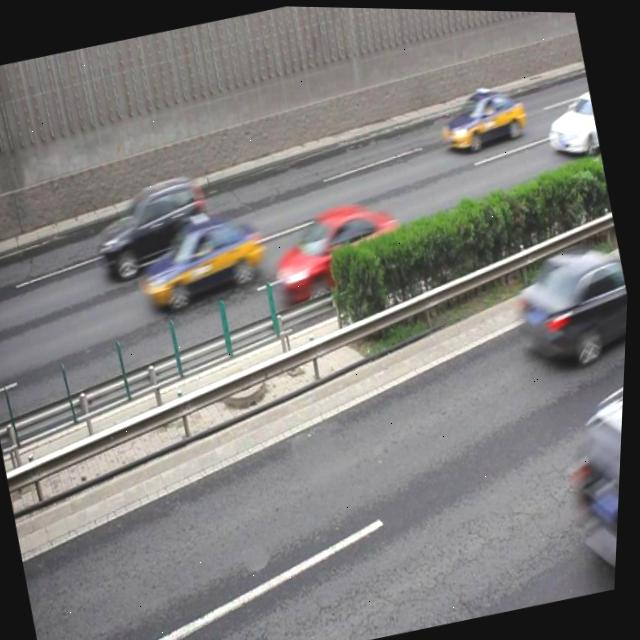car: (503, 233, 632, 370), (261, 192, 413, 308), (130, 202, 275, 317), (84, 167, 221, 286), (549, 392, 627, 592), (432, 78, 531, 156), (537, 87, 603, 159)
